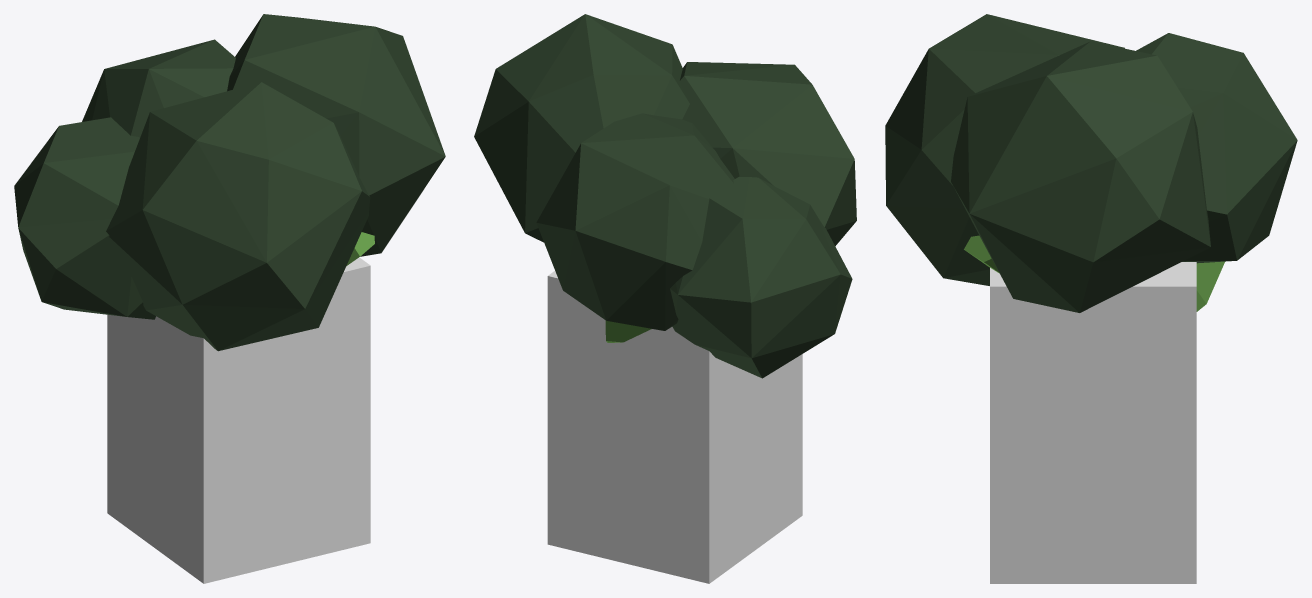
The model's file is Broccoli.gltf.
3 views of the same model, side by side, from view 1: azimuth 30°, elevation 25°; view 2: azimuth 150°, elevation 25°; view 3: azimuth 270°, elevation 25° (orthographic). The views are drawn at different scales.
Parts seen in each view (by area): view 1: Broccoli, Cube.034; view 2: Broccoli, Cube.034; view 3: Broccoli, Cube.034.
Part boxes in pixels (x1=…): Broccoli: x1=14, y1=14, x2=445, y2=351; Cube.034: x1=107, y1=257, x2=370, y2=583; Broccoli: x1=474, y1=14, x2=856, y2=378; Cube.034: x1=547, y1=271, x2=802, y2=583; Broccoli: x1=885, y1=14, x2=1297, y2=312; Cube.034: x1=990, y1=262, x2=1196, y2=583.
Size of the model in its own units: 0.1163 by 0.1399 by 0.0997.
